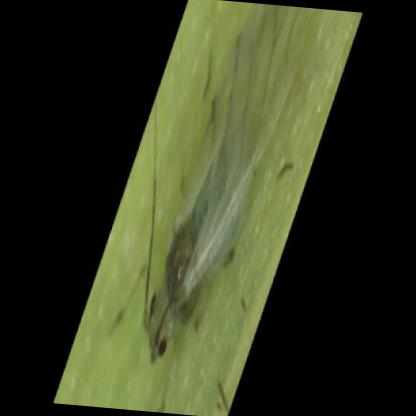schizaphis graminum: (145, 11, 322, 367)
